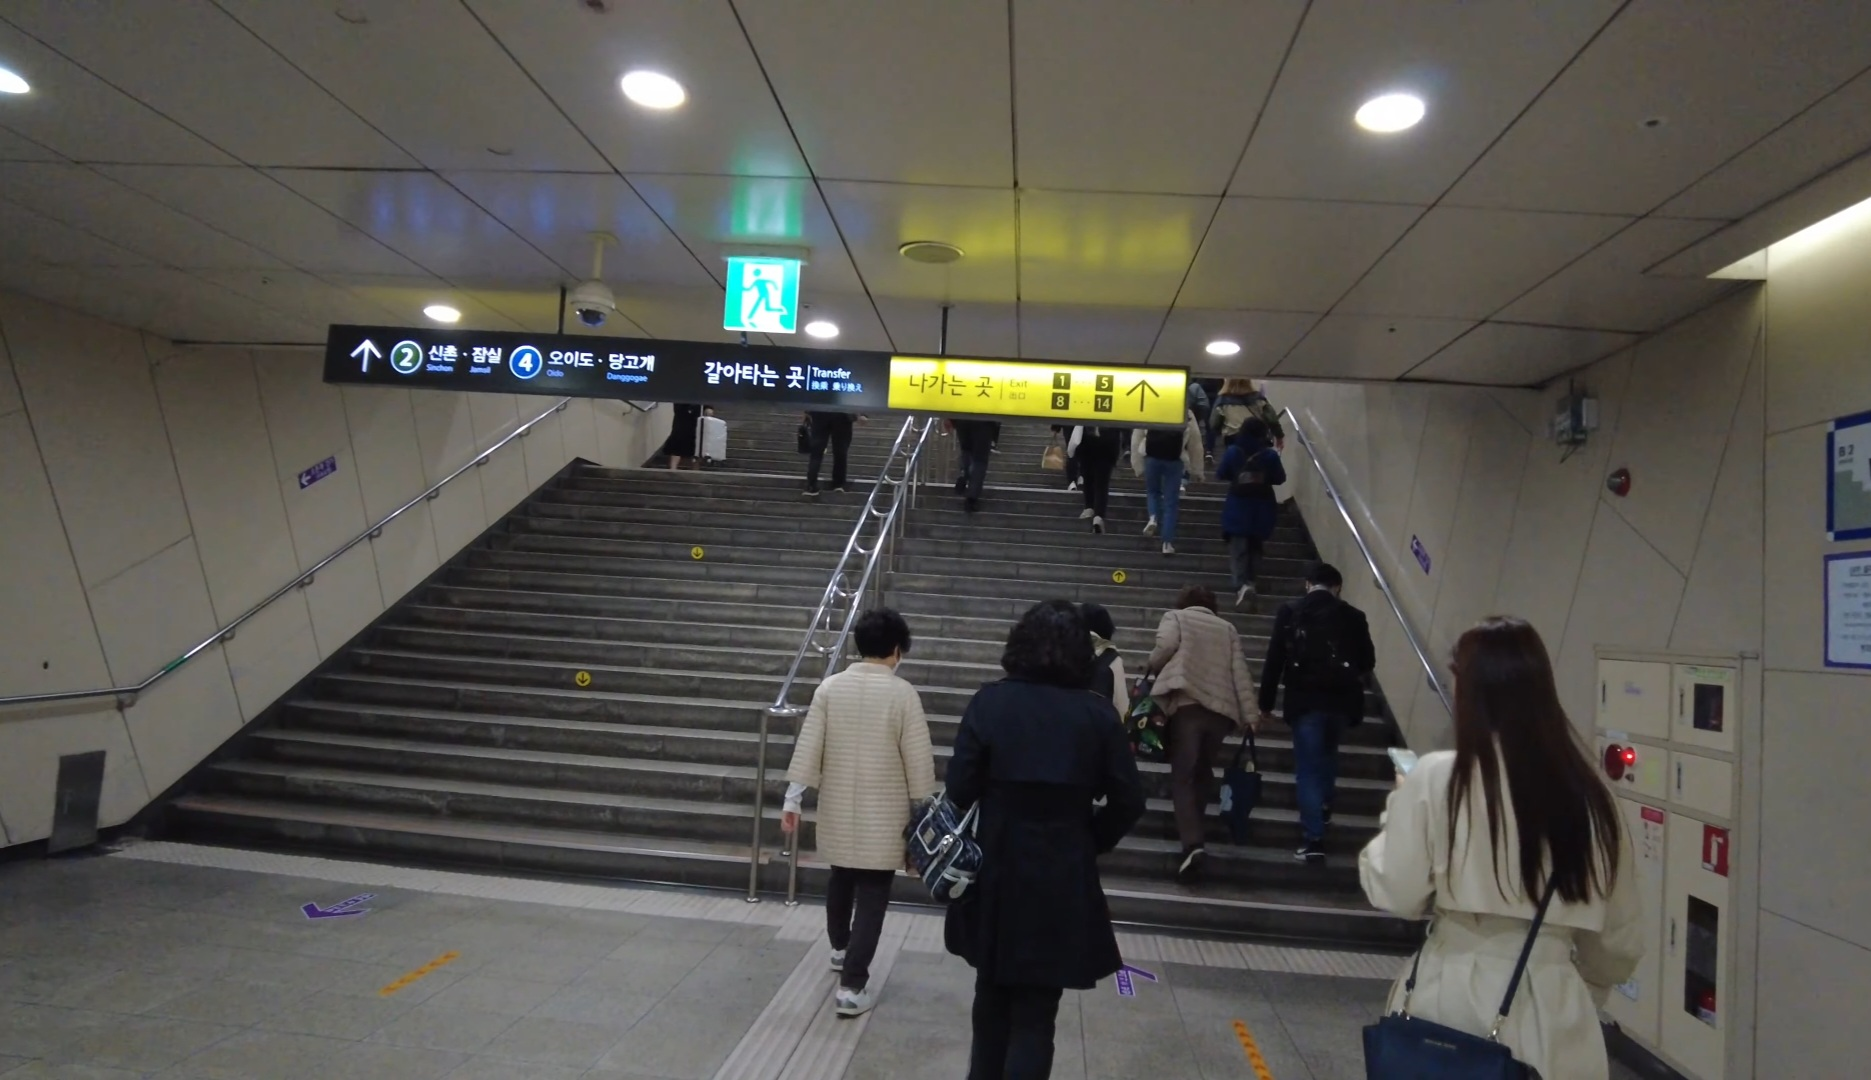signBoard: (326, 321, 1190, 438)
